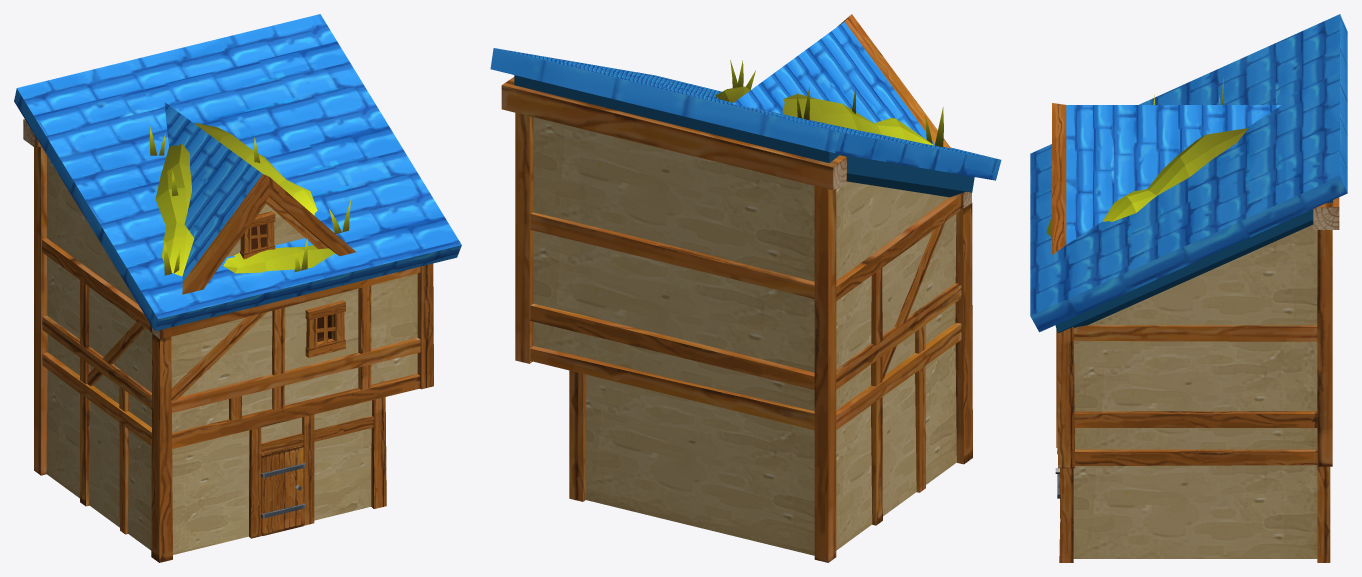
Rendered from hut_01.fbx.
3 views of the same model, side by side, from view 1: azimuth 30°, elevation 25°; view 2: azimuth 150°, elevation 25°; view 3: azimuth 270°, elevation 25° (orthographic). The views are drawn at different scales.
Visible parts, largest first — view 1: hut_01, hutbulks_01, grass.01, door_01; view 2: hut_01, hutbulks_01, grass.01; view 3: hut_01, hutbulks_01, grass.01.
Part boxes in pixels (x1,y1,x2,y2): hut_01: [14, 14, 461, 554]; hutbulks_01: [23, 119, 433, 562]; grass.01: [149, 123, 351, 276]; door_01: [261, 445, 305, 535]; hut_01: [490, 14, 1001, 555]; hutbulks_01: [501, 77, 972, 562]; grass.01: [715, 60, 943, 147]; hut_01: [1030, 14, 1347, 558]; hutbulks_01: [1056, 197, 1339, 562]; grass.01: [1046, 78, 1248, 237].
Size of the model in its own units: 358 by 432 by 296.
